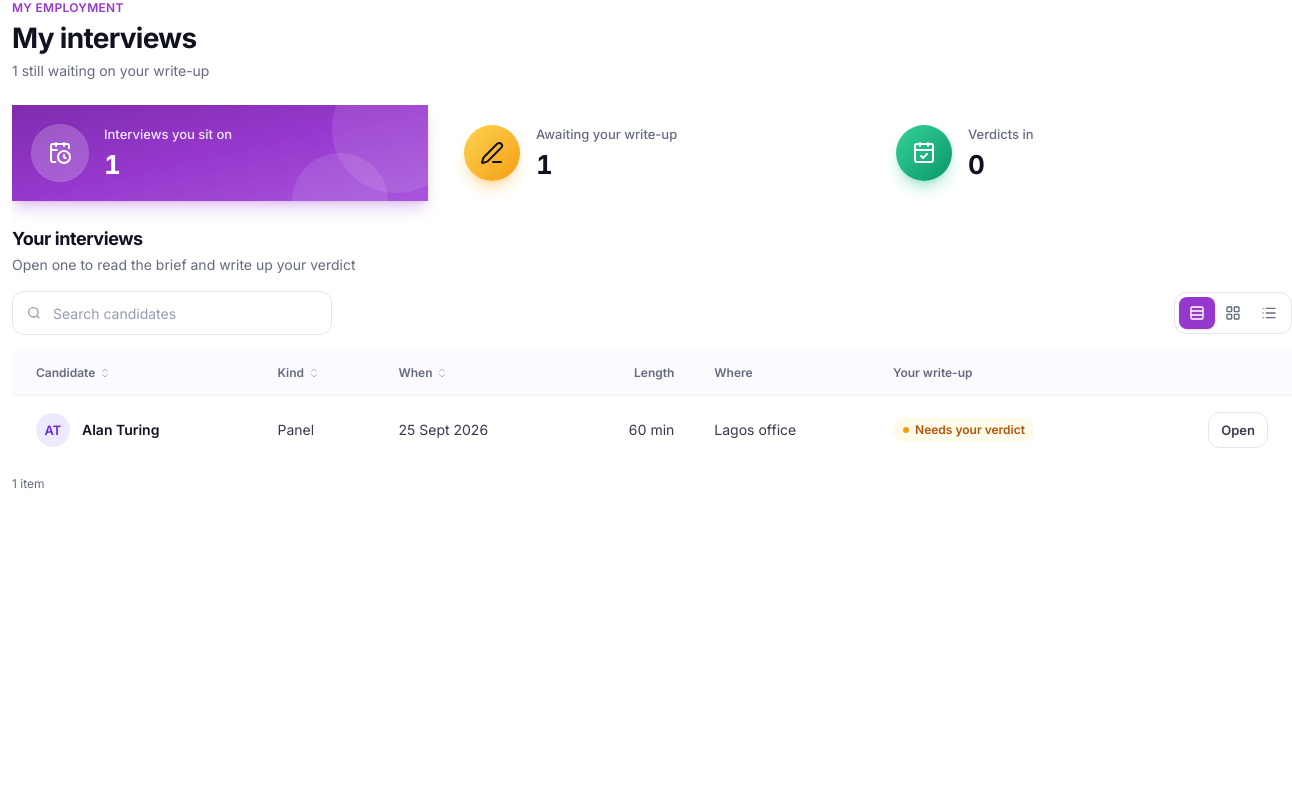
MyInterviews › the anchoring rule › opens the panel once mine is in
This screenshot has width=1292, height=800.
Click the button "Open" at (1238,430), box left=1208, top=412, right=1268, bottom=448
(page scrolled)
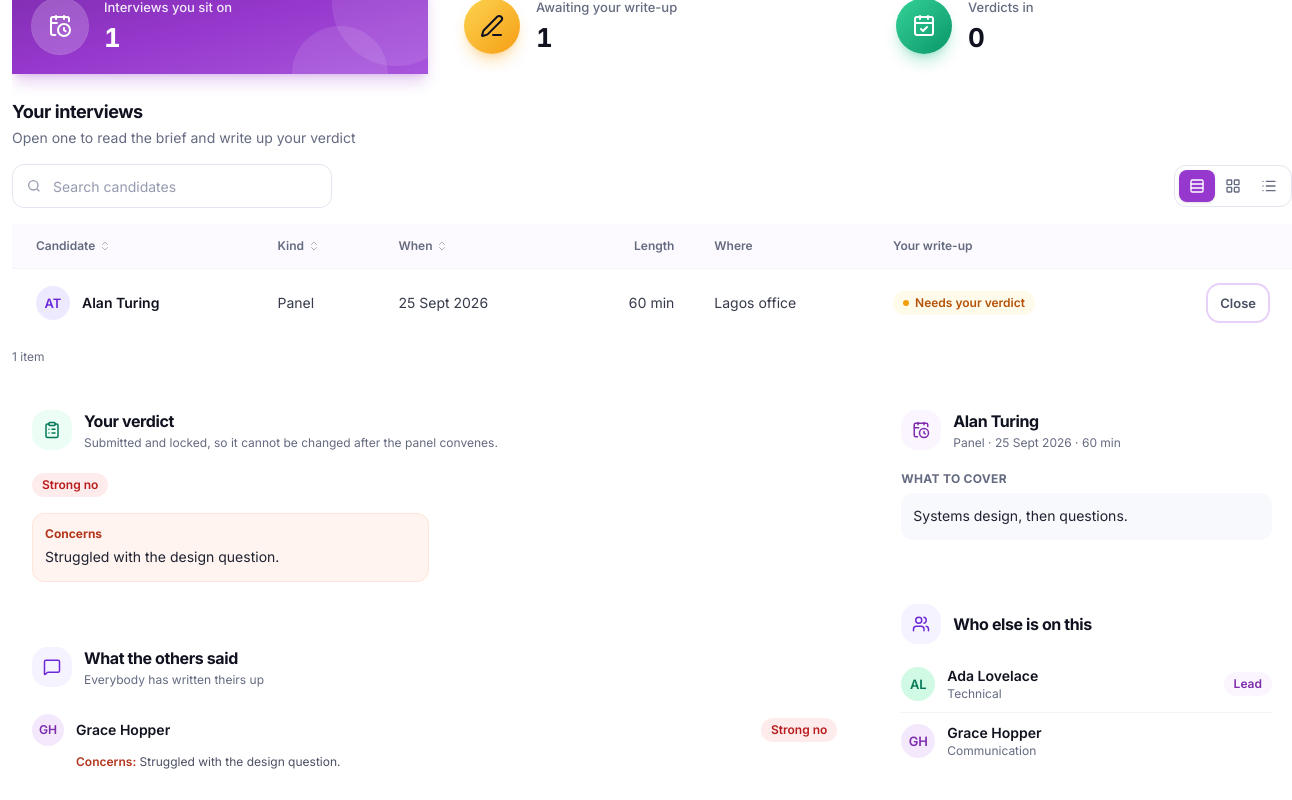
Now the text "Grace Hopper" below "Everybody has written theirs up" is shown, box left=76, top=721, right=170, bottom=738
Now the 2nd text "Strong no" is shown, box left=761, top=718, right=837, bottom=742
Now the text "Concerns: Struggled with the design question." is shown, box left=76, top=754, right=340, bottom=769
